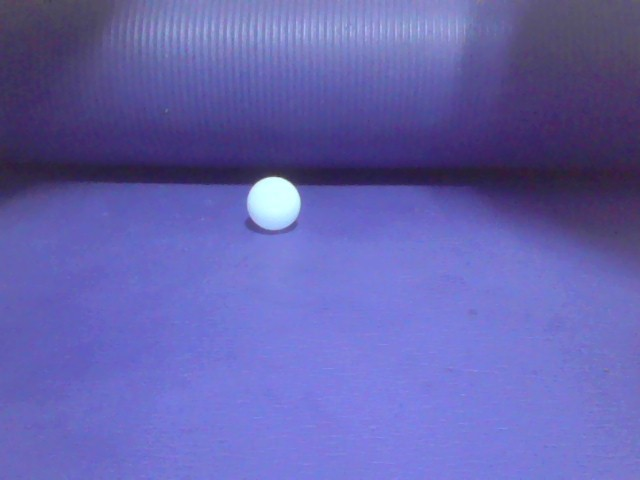ball: (248, 174, 303, 231)
